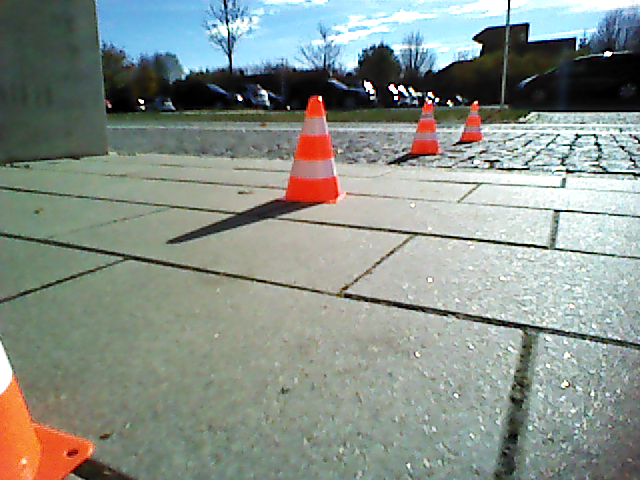orangeconesmall: (288, 95, 342, 204), (412, 102, 438, 155), (461, 102, 482, 141)
